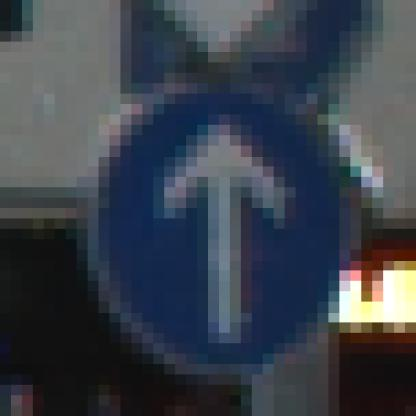AheadOnly: (67, 63, 362, 365)
